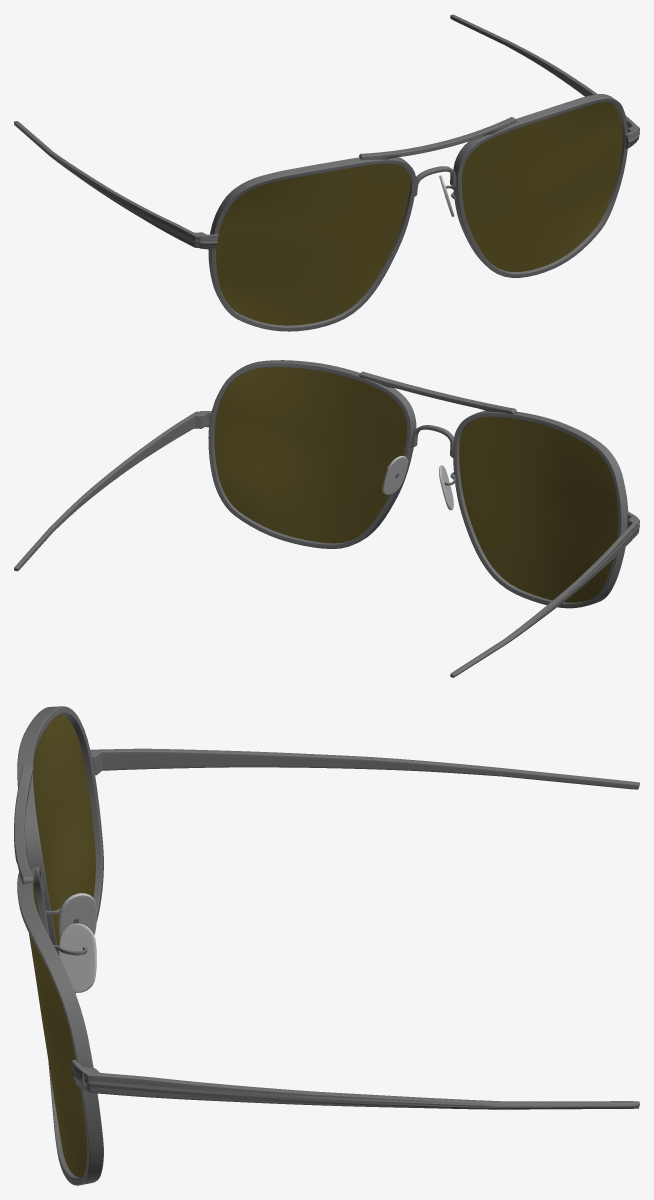
The model's file is Chromance_cycles.gltf.
3 renders of one model, top to bottom at view 1: azimuth 30°, elevation 25°; view 2: azimuth 150°, elevation 25°; view 3: azimuth 270°, elevation 25°, orthographic. The views are drawn at different scales.
Visible parts, largest first — view 1: armacao; view 2: armacao; view 3: armacao.
Boxes of the visible parts, x1,y1,x2,y2 form: armacao: (14, 14, 639, 331); armacao: (14, 360, 639, 677); armacao: (14, 706, 639, 1185).
Bounding box in the file's own units: 0.157 × 0.0556 × 0.1217.
Materials: 3 (3 with a texture image).
